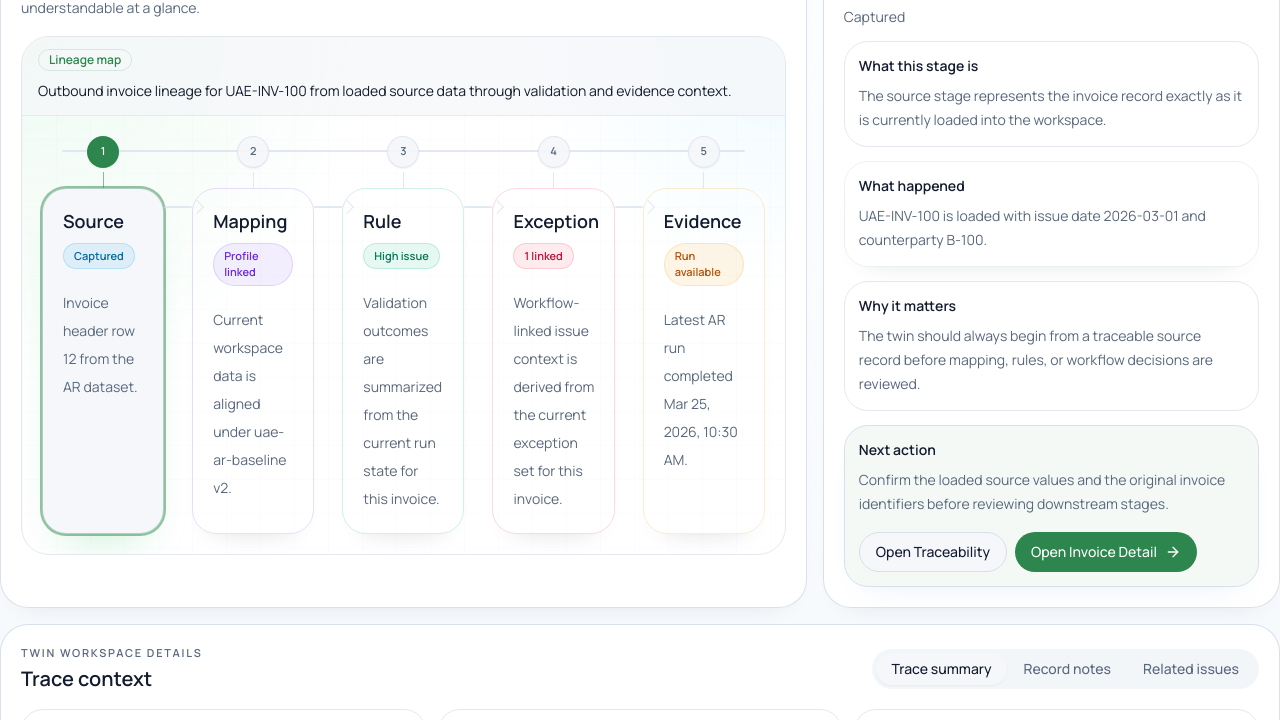
Test case: Data Twin route › renders a live invoice-backed twin and updates node detail context when a node is selected
(page scrolled)
Expected: the tab "Trace summary" is shown, [876,653,1008,685]
Expected: the tab "Record notes" is shown, [1008,653,1127,685]
Click the button with aria-label "exception case" at (554, 361), box [492,188,615,534]
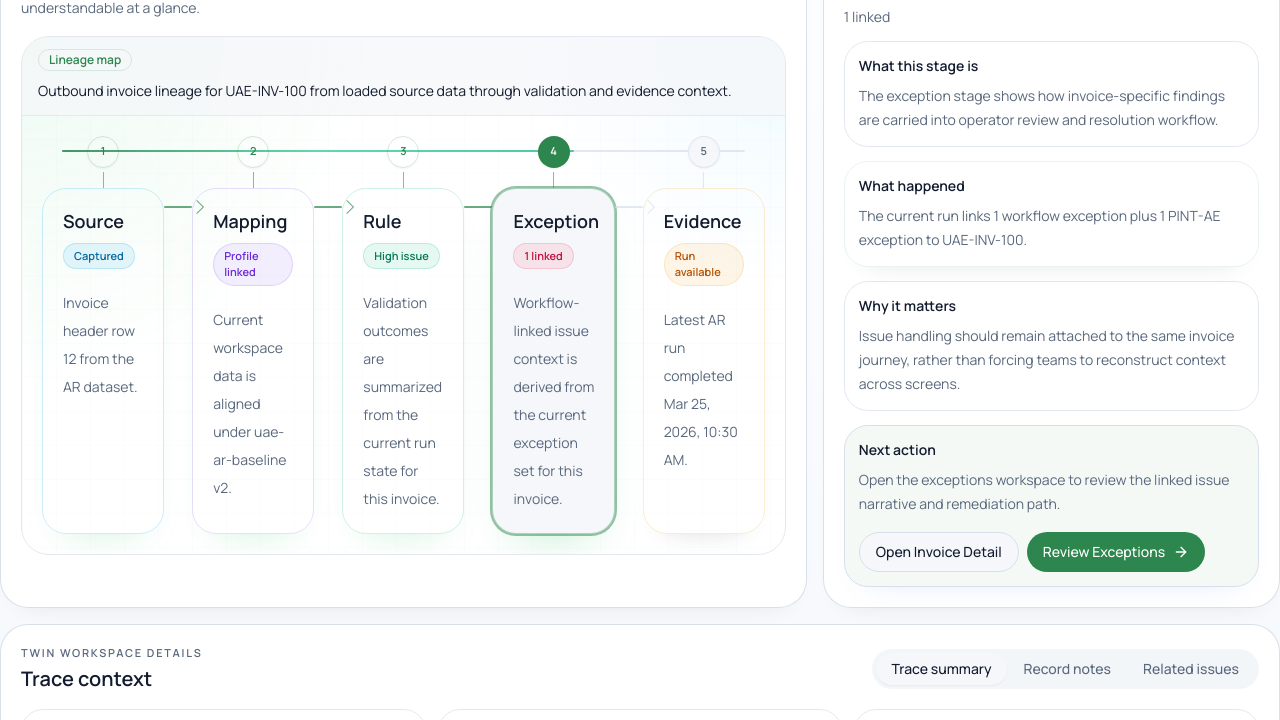
Expected: the 2nd text "1 linked" is shown, [514,242,574,269]
Result: the button with aria-label "exception case" is pressed at [492,188,615,534]
Click the button "Mapping Profile" at (253, 361), box [192,188,314,534]
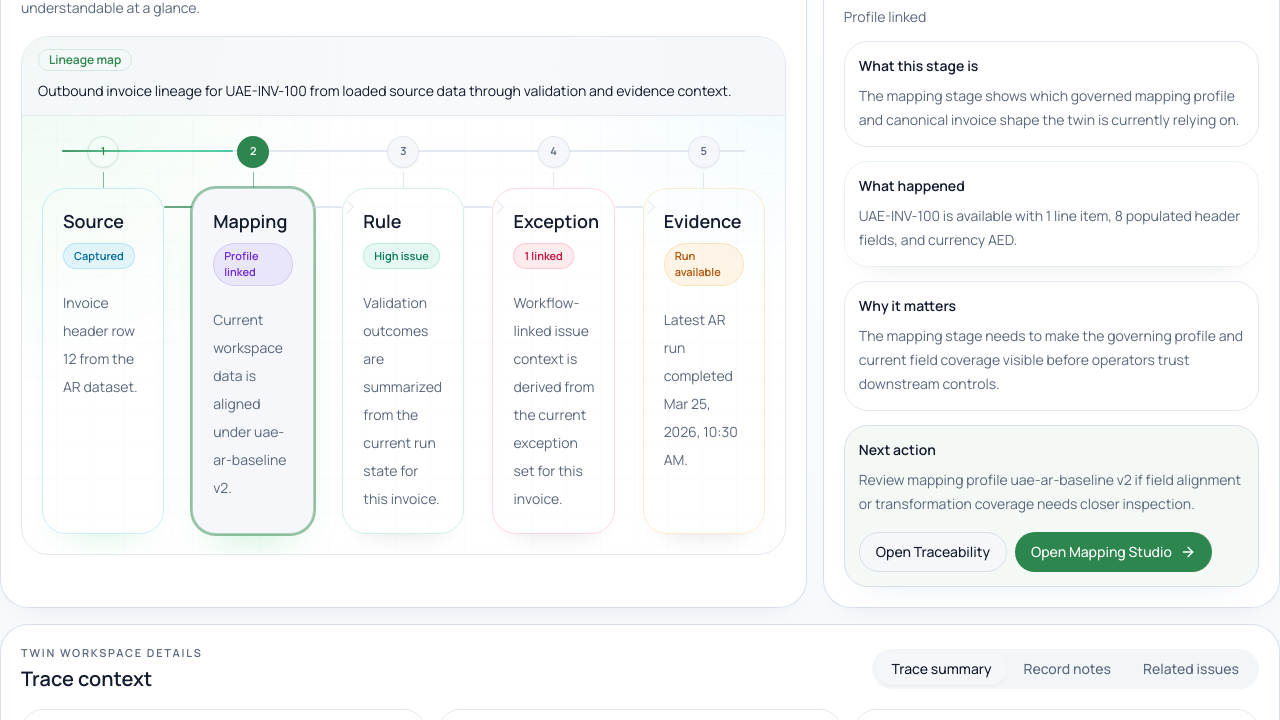
Expected: the text "Current workspace data is aligned under uae-ar-baseline v2." is shown, [213,306,293,502]
Result: the button "Open Mapping Studio" is shown at [1015,532,1212,572]
Click the button with aria-label "evidence pack" at (704, 361), box [643,188,765,534]
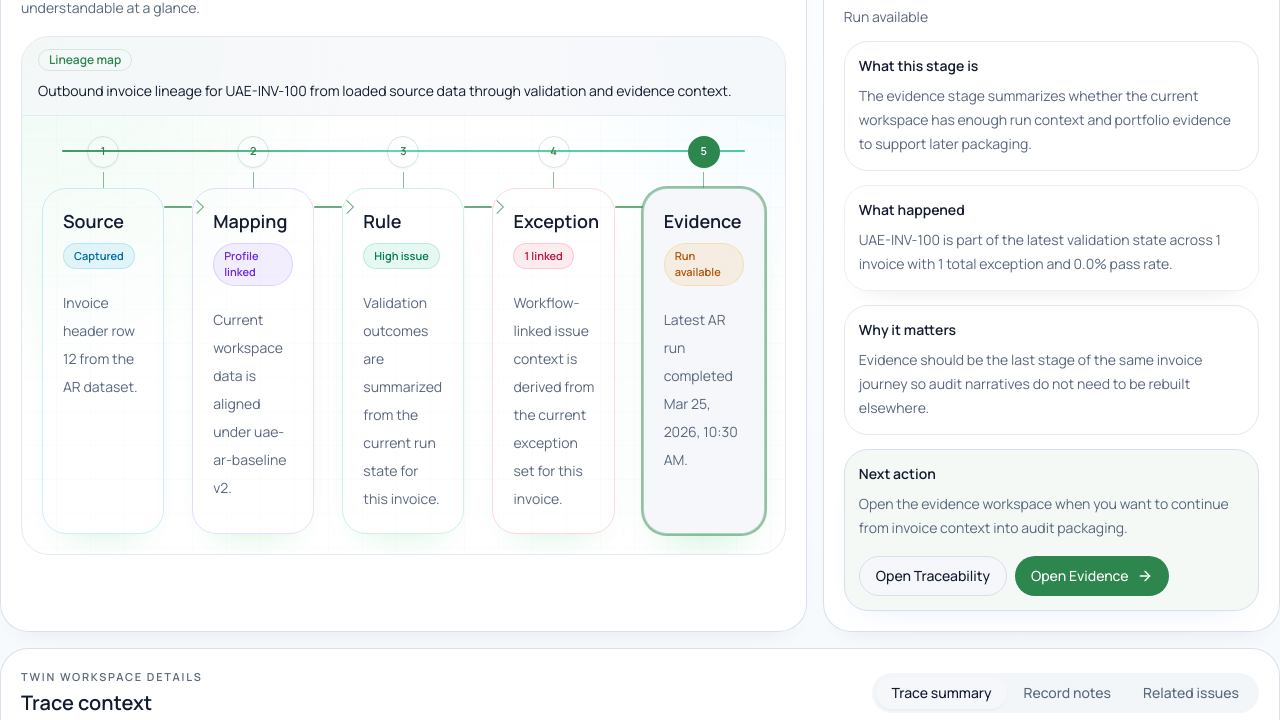
Result: the text "1 invoice with 1 total exception" is shown at [859,230,1221,272]
